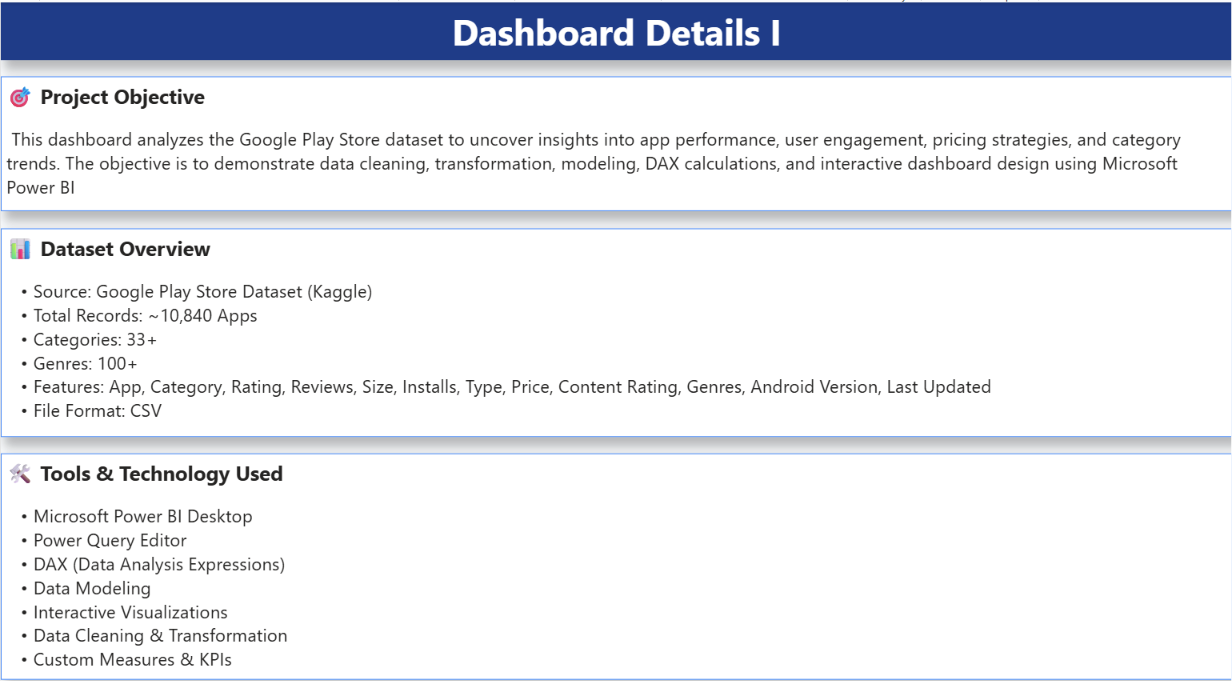

What the dashboard file says about the page in this screenshot:
{"tool":"powerbi","page":{"name":"Dashboard Details I","canvas":[1280,720],"ordinal":4},"visuals":[{"type":"textbox","box":[0,0,1280.3,60],"z":0},{"type":"textbox","box":[0,77,1280.3,139.9],"z":1000},{"type":"textbox","box":[0,235.1,1280.3,216.9],"z":2000},{"type":"textbox","box":[0,468.7,1280.3,235.1],"z":3000}]}

Visuals, with their boxes in screenshot pixels (x1, y1, x2, y2), scaled from the page's 1280x720 canvas onto the 1232x681 screenshot:
textbox: crop(0, 0, 1231, 57)
textbox: crop(0, 73, 1231, 205)
textbox: crop(0, 222, 1231, 428)
textbox: crop(0, 443, 1231, 666)
